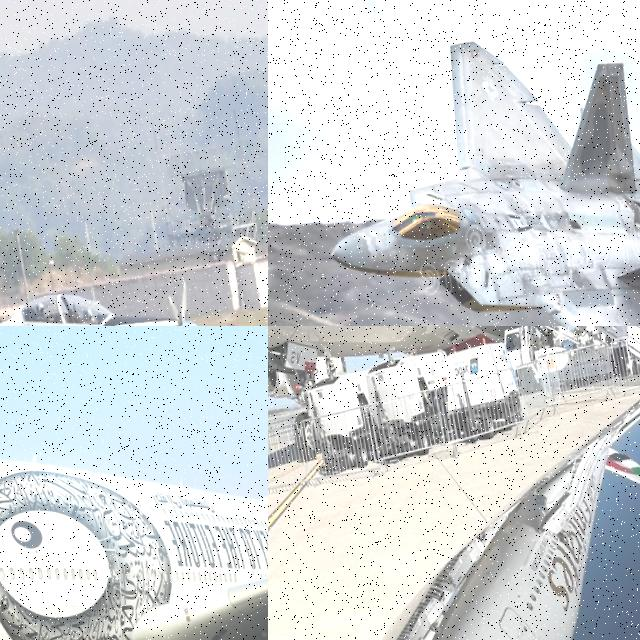A380: (0, 326, 268, 640), (268, 326, 640, 490)
F22: (299, 0, 640, 326)
KT-1: (0, 225, 207, 326)
